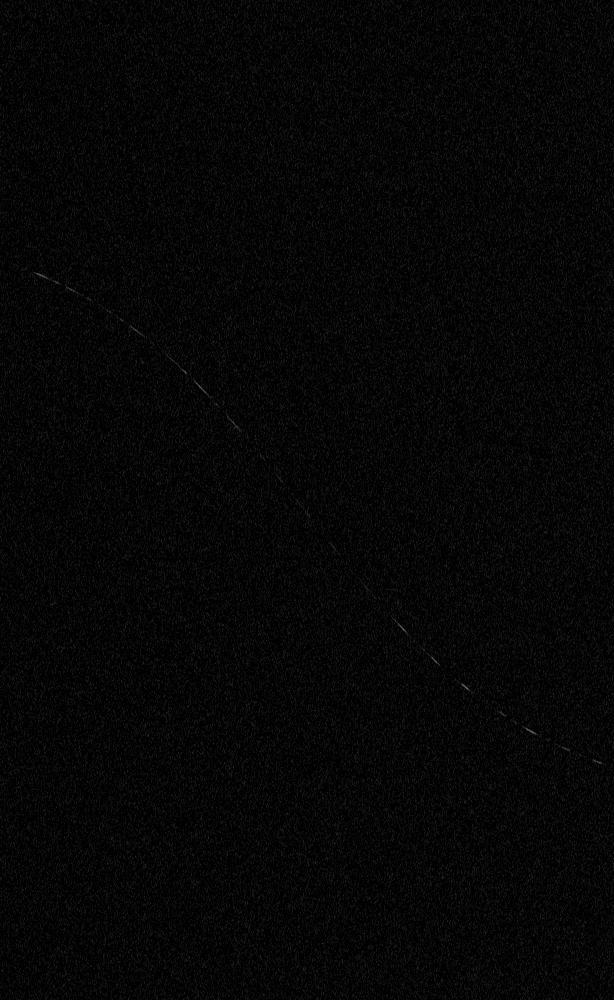signal: (0, 0, 613, 999)
